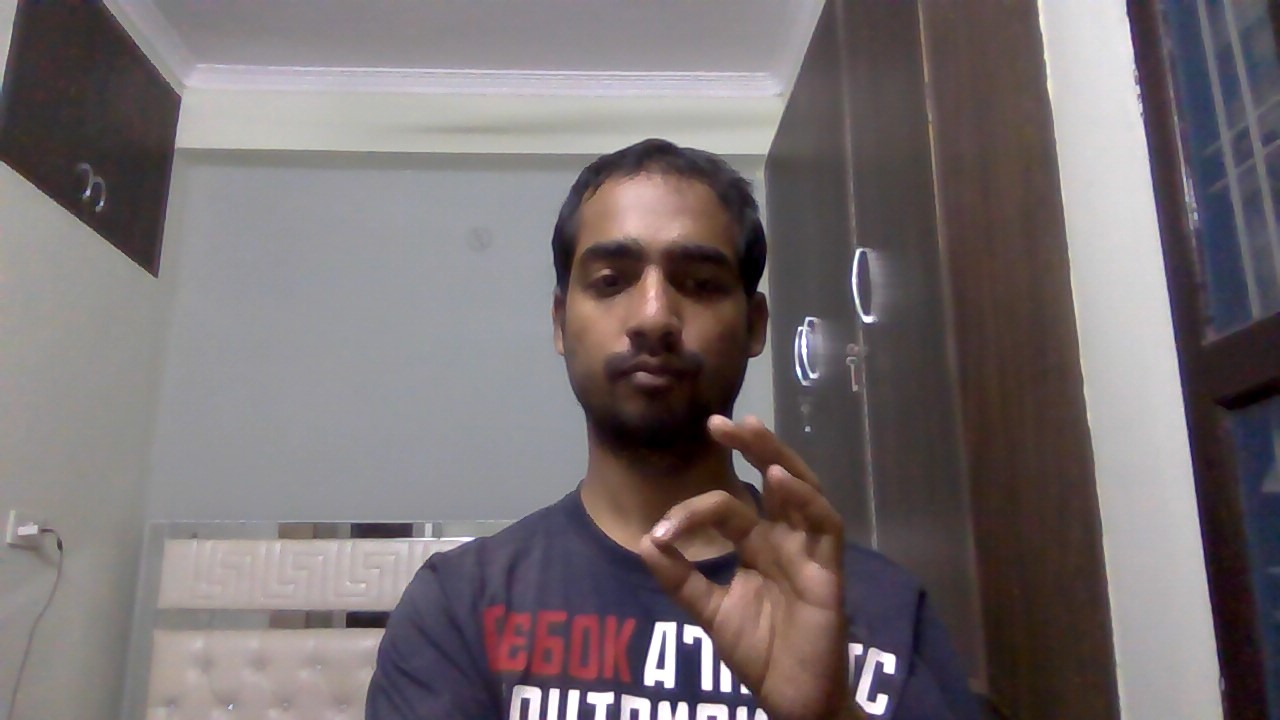Copy: (632, 409, 885, 713)
